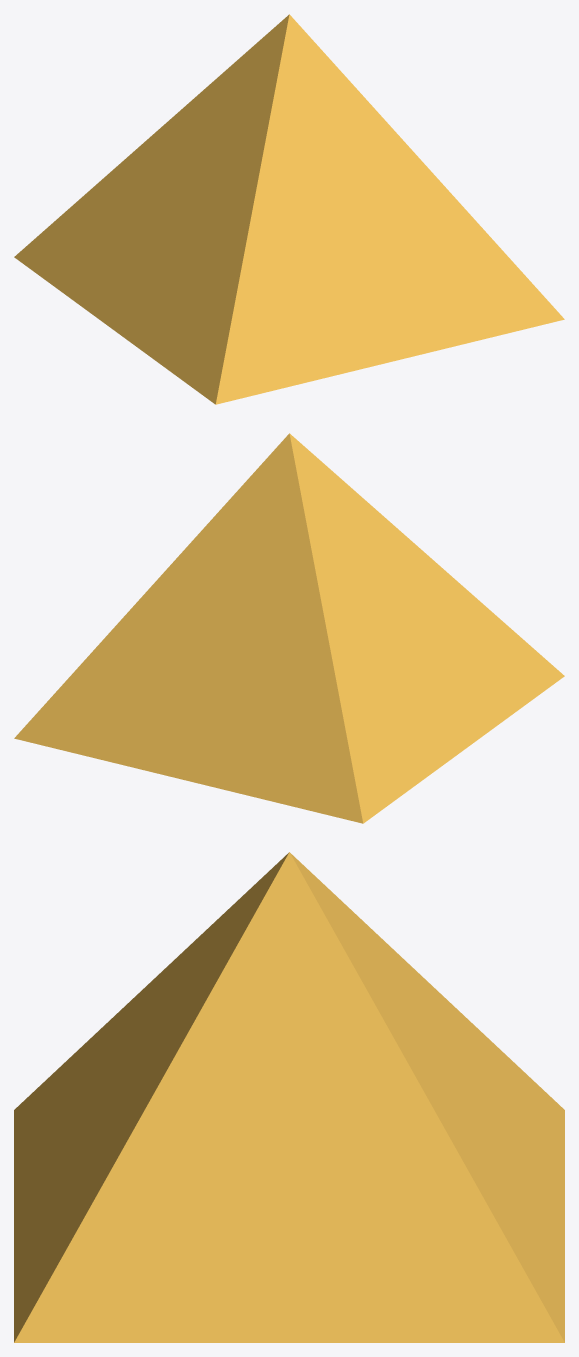
3 renders of one model, top to bottom at view 1: azimuth 30°, elevation 25°; view 2: azimuth 150°, elevation 25°; view 3: azimuth 270°, elevation 25°, orthographic. The views are drawn at different scales.
Bounding box in the file's own units: 2 × 1.5 × 2.
